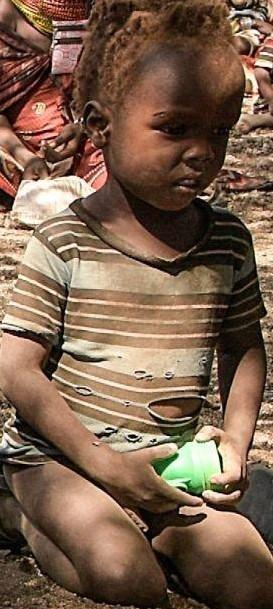Stunting: (57, 25, 273, 235)
